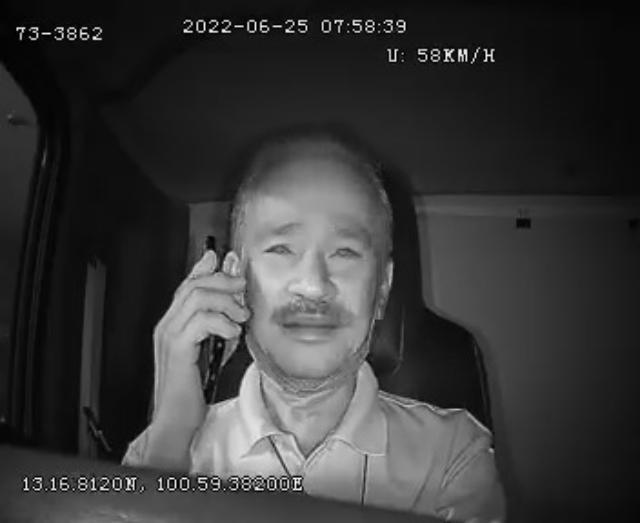PhoneUse: (192, 230, 230, 409)
SafeDriving: (322, 230, 369, 272), (257, 228, 302, 263)
